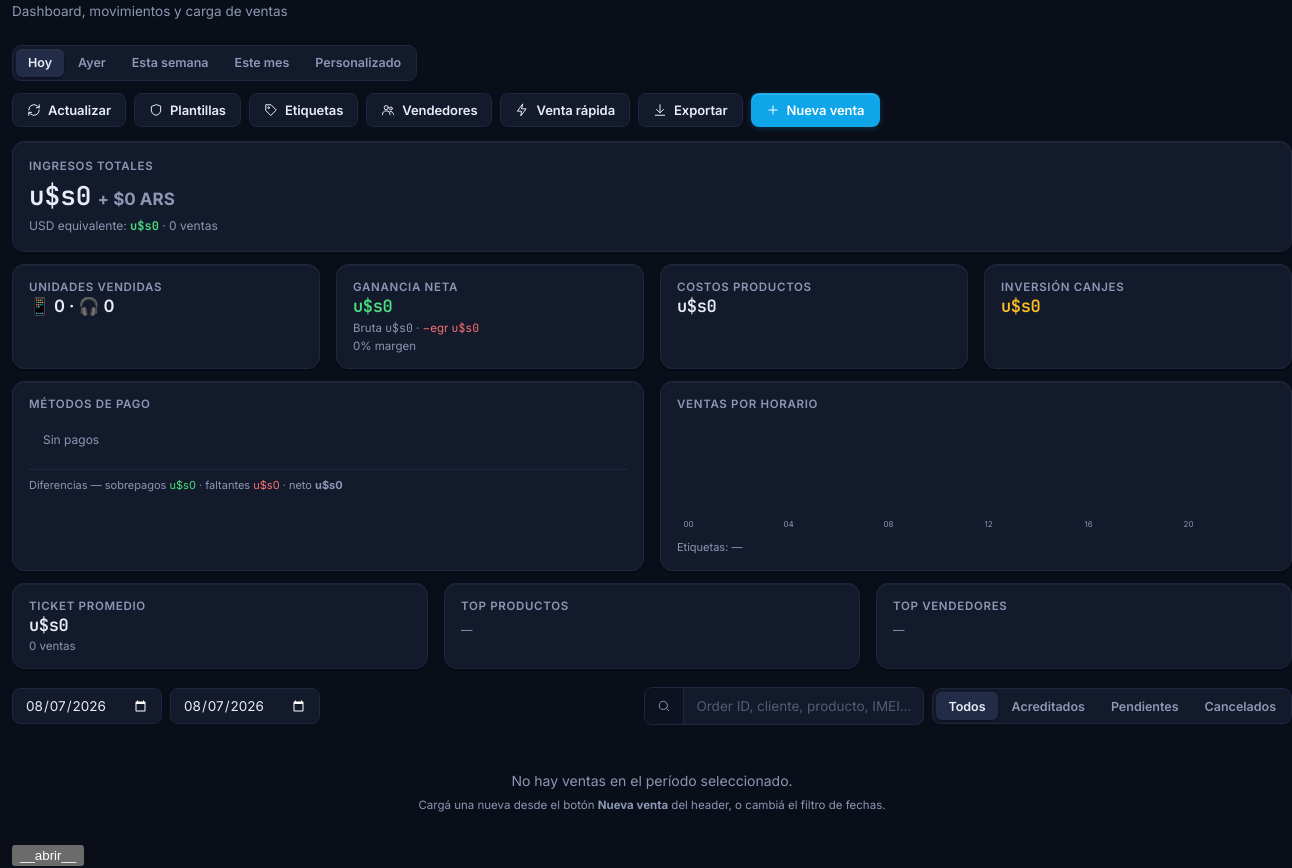
it: Pantalla Ventas › F-07 — filtros persisten en URL › cambiar estado a "Acreditados" agrega ?estado=acreditado
The image size is (1292, 868).
Click the button "Acreditados" at coordinates (1048, 706), box [1000, 692, 1097, 720]
(page scrolled)
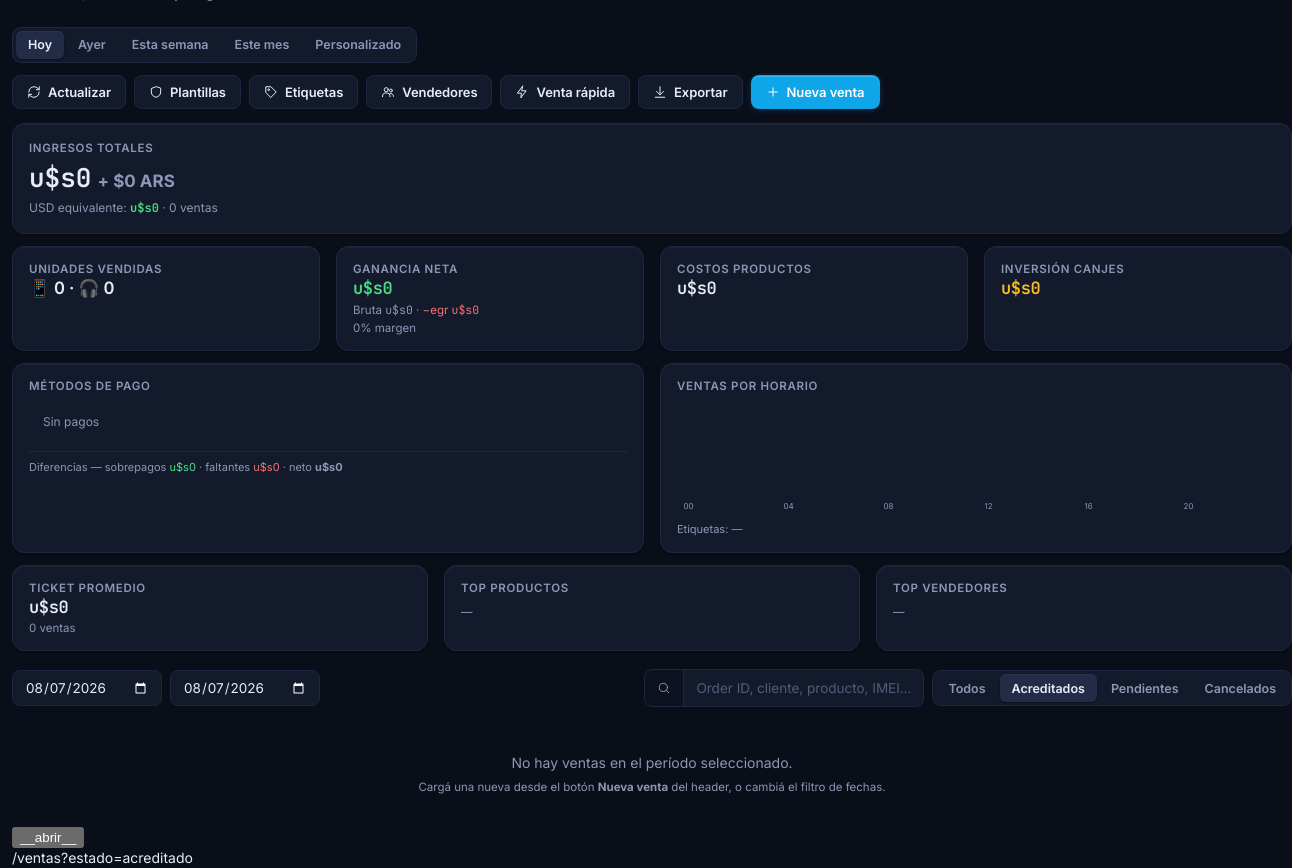
Expected: the text with test id "location" reads "/ventas?estado=acreditado", [61, 849, 193, 866]
